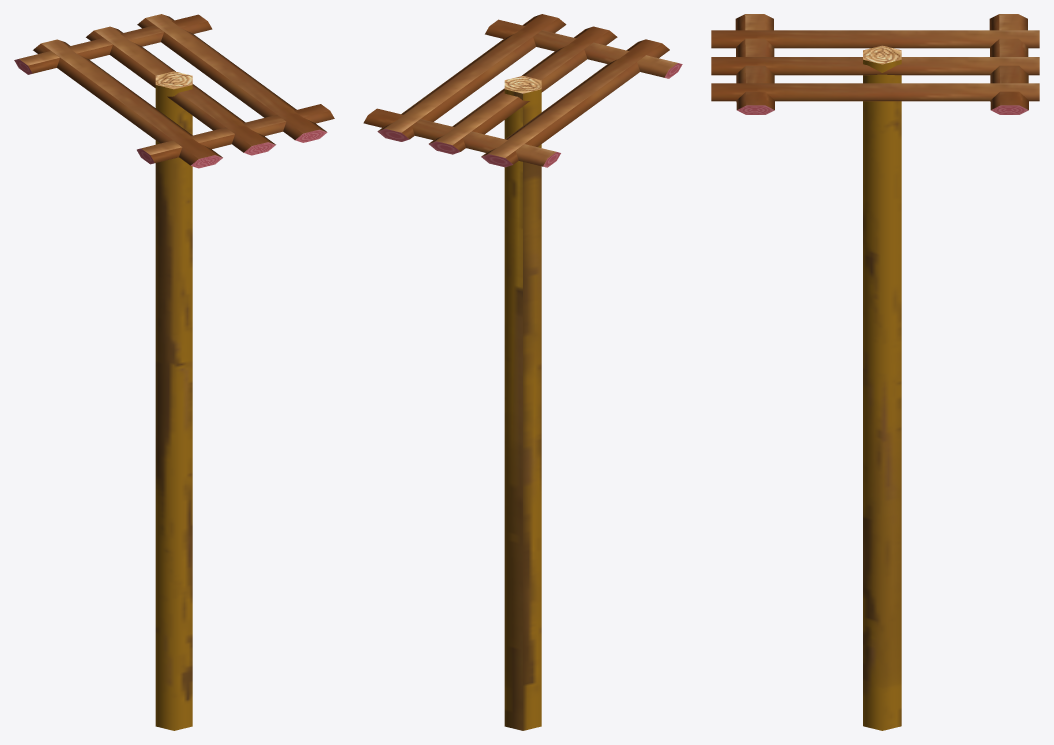
File: prop10.FBX
The picture shows the model from 3 angles, left to right: view 1: azimuth 30°, elevation 25°; view 2: azimuth 150°, elevation 25°; view 3: azimuth 270°, elevation 25°; orthographic projection. The views are drawn at different scales.
Visible parts, largest first — view 1: Cylinder001; view 2: Cylinder001; view 3: Cylinder001.
Part boxes in pixels (<box>): Cylinder001: <box>14,14,334,730</box>; Cylinder001: <box>363,14,682,730</box>; Cylinder001: <box>711,14,1039,730</box>.
Size of the model in its own units: 44.19 by 150 by 66.97.
